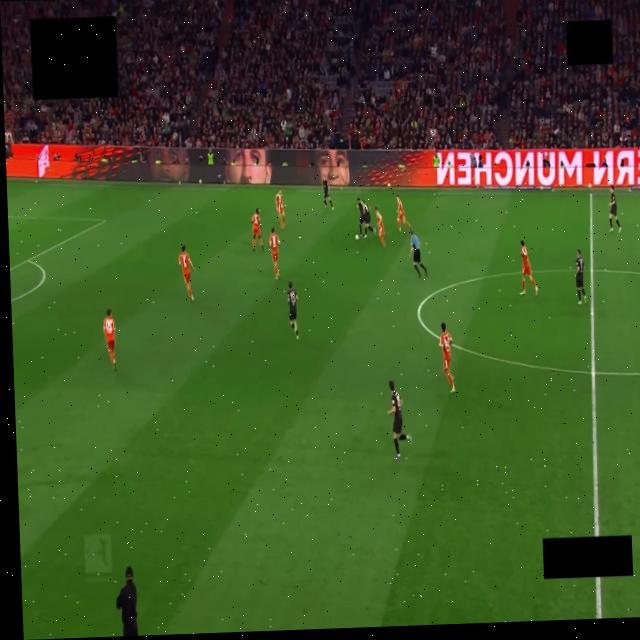ball: (354, 234, 359, 240)
player: (388, 380, 411, 460), (439, 323, 454, 392), (520, 240, 538, 295), (179, 246, 193, 301), (103, 309, 115, 370), (357, 197, 374, 239), (287, 283, 298, 340), (575, 250, 586, 305), (251, 208, 263, 251), (269, 228, 279, 279), (609, 187, 620, 232), (396, 195, 409, 232), (374, 207, 384, 247), (275, 190, 284, 228), (322, 176, 332, 209), (357, 198, 363, 237)
referee: (410, 230, 426, 277)
